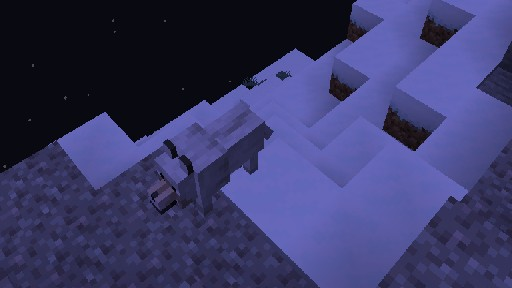wolf: (146, 101, 273, 219)
